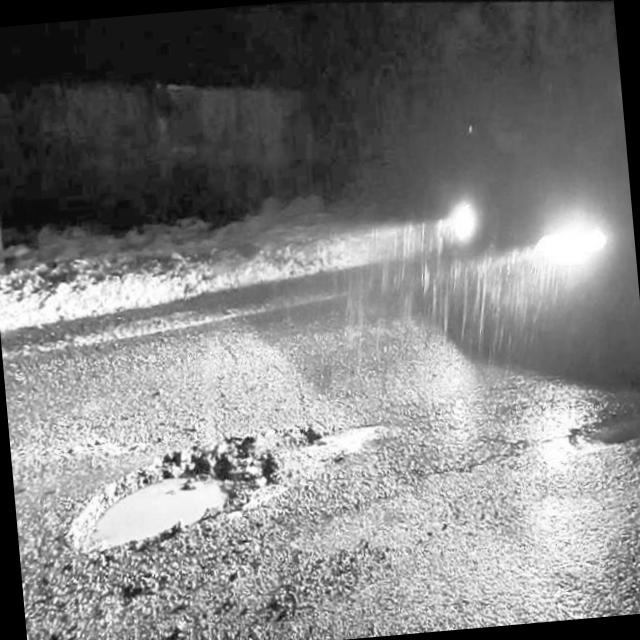Pothole: (63, 414, 278, 575), (565, 378, 640, 469)
